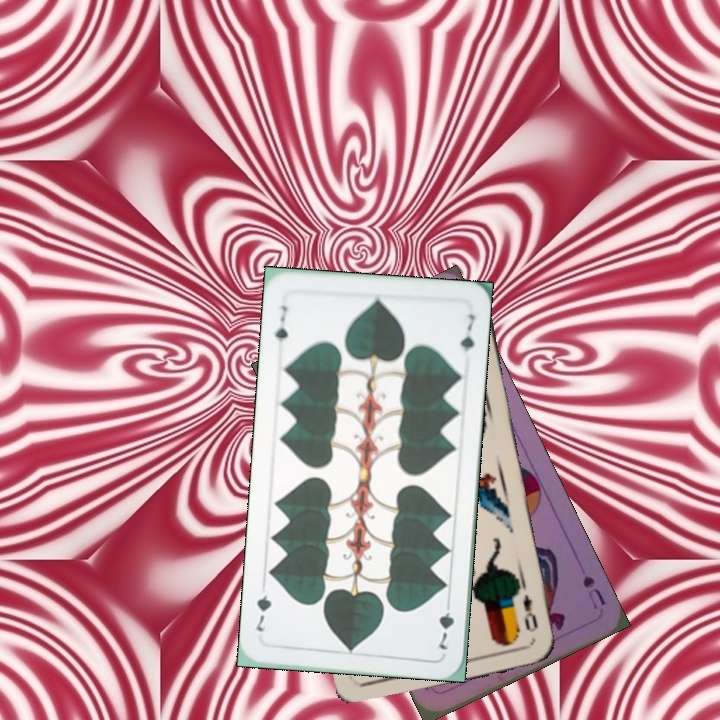EO: (519, 590, 540, 635)
G7: (434, 595, 457, 652), (271, 302, 290, 352)
SU: (578, 571, 608, 612)
